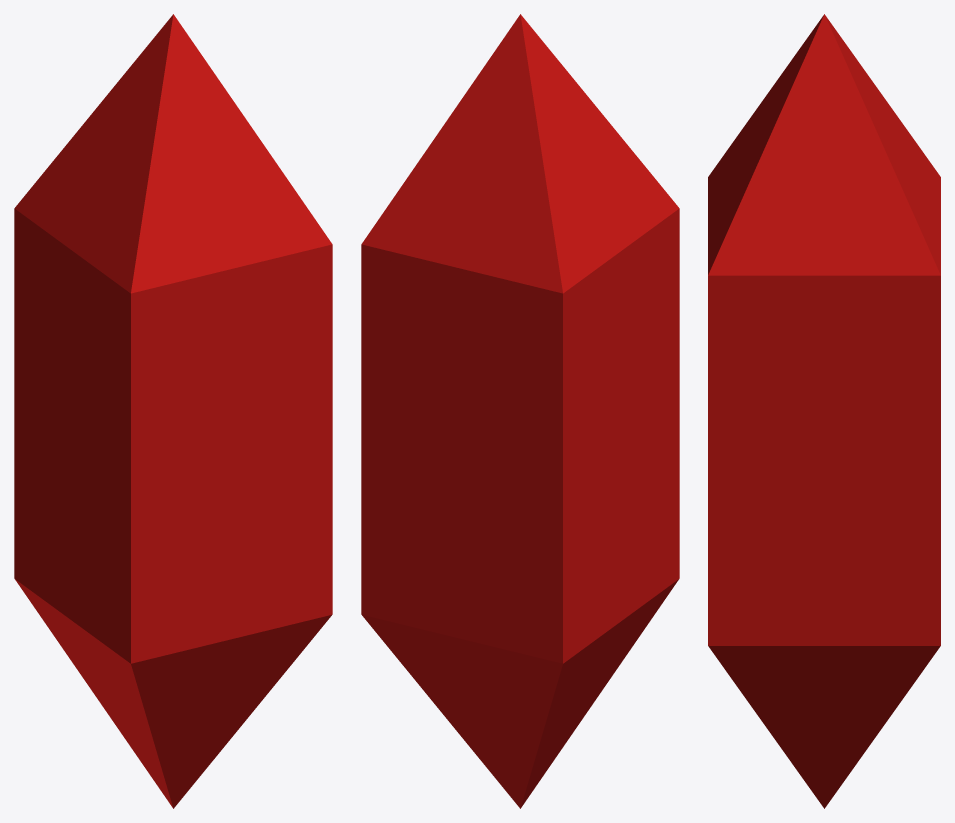
File: right_arm_upper.obj
3 views of the same model, side by side, from view 1: azimuth 30°, elevation 25°; view 2: azimuth 150°, elevation 25°; view 3: azimuth 270°, elevation 25° (orthographic).
Parts seen in each view (by area): view 1: right_arm_upper; view 2: right_arm_upper; view 3: right_arm_upper.
Part boxes in pixels (x1,y1,x2,y2): right_arm_upper: (14,14,332,808); right_arm_upper: (361,14,679,808); right_arm_upper: (708,14,940,808).
Size of the model in its own units: 0.499 by 1.88 by 0.499.
